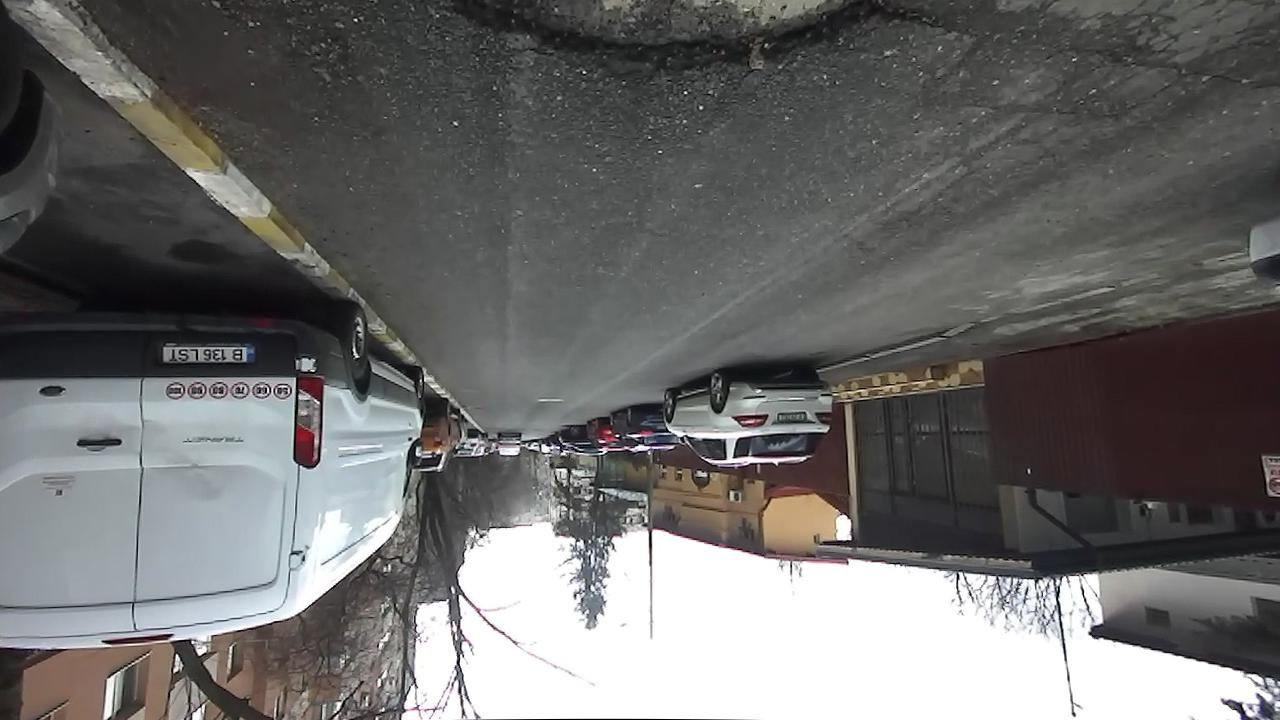pothole: (398, 0, 951, 87)
